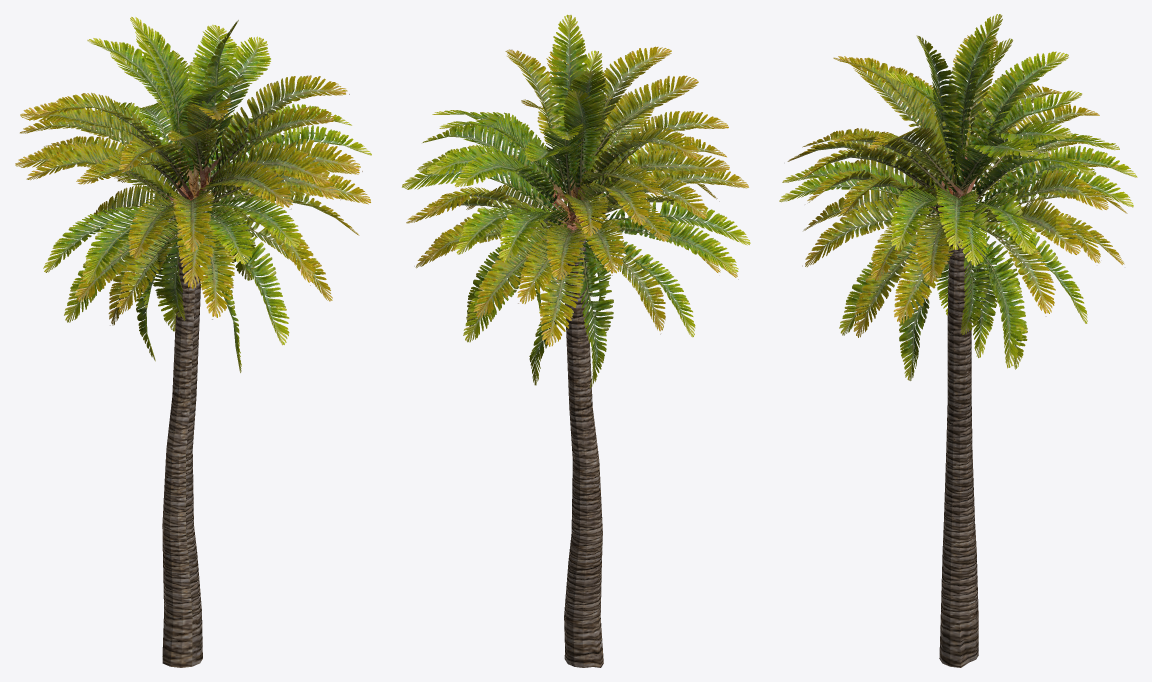
The model's file is t_palm.glb.
The picture shows the model from 3 angles, left to right: view 1: azimuth 30°, elevation 25°; view 2: azimuth 150°, elevation 25°; view 3: azimuth 270°, elevation 25°; orthographic projection. The views are drawn at different scales.
Size of the model in its own units: 3.68 by 7.16 by 3.63.
Materials: 1 (1 with a texture image).
